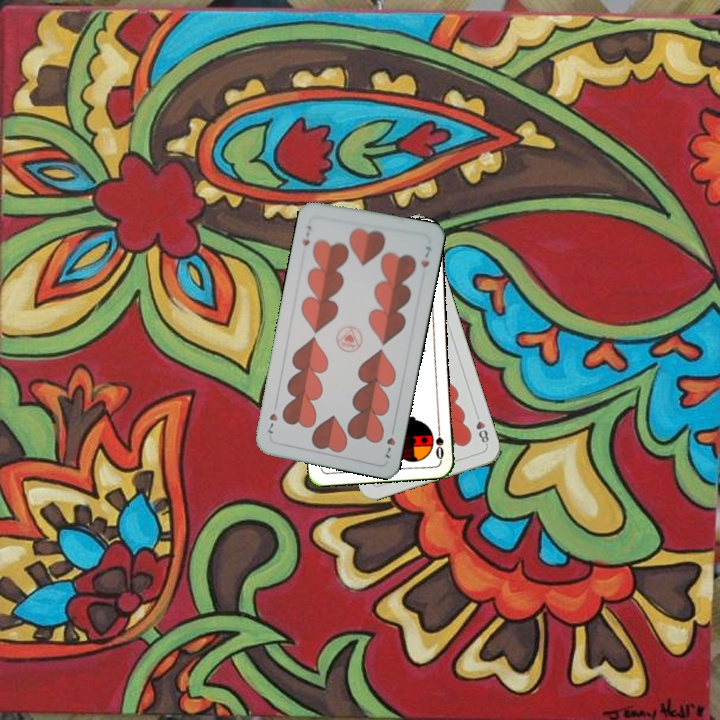H7: (381, 422, 398, 461), (298, 221, 314, 248)
H8: (471, 408, 491, 448)
SO: (431, 421, 446, 462)
